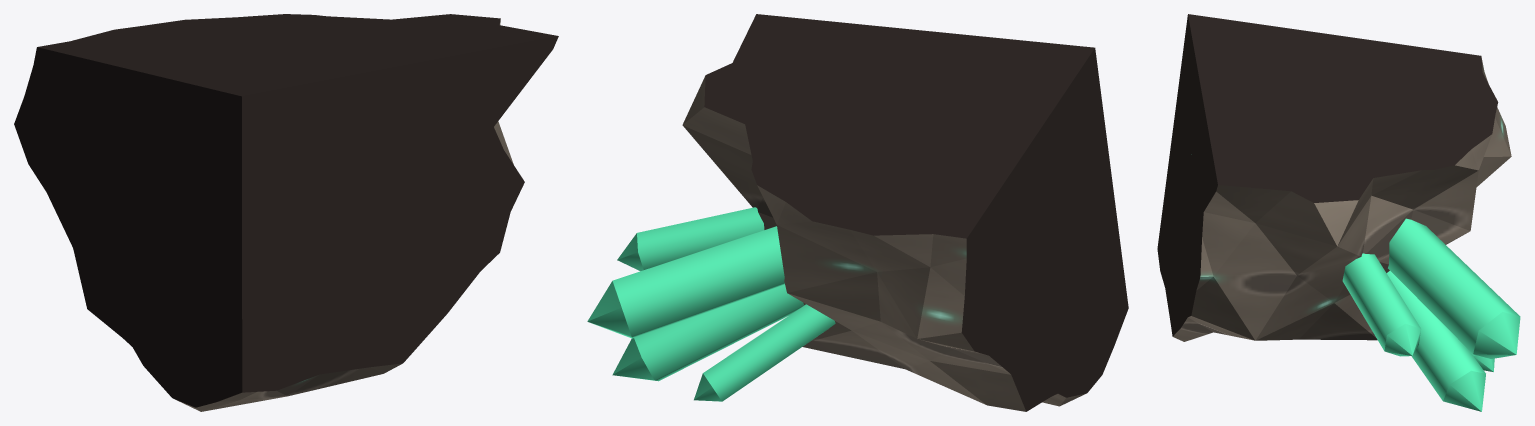
The model's file is cosmium_asteroid_debris2.obj.
3 views of the same model, side by side, from view 1: azimuth 30°, elevation 25°; view 2: azimuth 150°, elevation 25°; view 3: azimuth 270°, elevation 25° (orthographic). The views are drawn at different scales.
Parts seen in each view (by area): view 1: rock, crystal; view 2: rock, crystal; view 3: rock, crystal.
Part boxes in pixels (box(x1,y1,x2,y2)): rock: box(14, 14, 558, 411); crystal: box(314, 57, 408, 231); rock: box(682, 14, 1128, 411); crystal: box(587, 30, 958, 401); rock: box(1157, 14, 1511, 341); crystal: box(1182, 80, 1520, 411).
Size of the model in its own units: 64.44 by 51.4 by 56.76.
3 materials, 1 textured.
